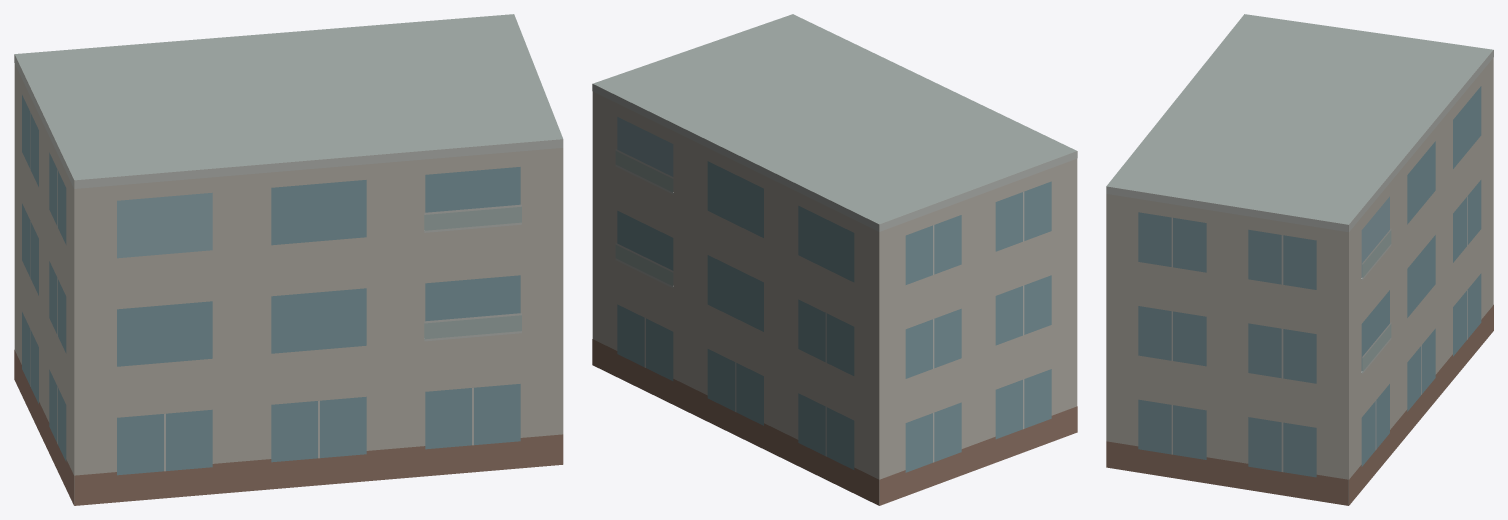
Rendered from survey-upis-32943555.glb.
3 renders of one model, left to right at view 1: azimuth 30°, elevation 25°; view 2: azimuth 150°, elevation 25°; view 3: azimuth 270°, elevation 25°, orthographic. The views are drawn at different scales.
Parts seen in each view (by area): view 1: survey-upis-32943555.tmp; view 2: survey-upis-32943555.tmp; view 3: survey-upis-32943555.tmp.
Part boxes in pixels (x1,y1,x2,y2): survey-upis-32943555.tmp: (14, 14, 563, 505); survey-upis-32943555.tmp: (592, 14, 1077, 505); survey-upis-32943555.tmp: (1106, 14, 1493, 505).
Bounding box in the file's own units: 14.73 × 9.15 × 11.45.
